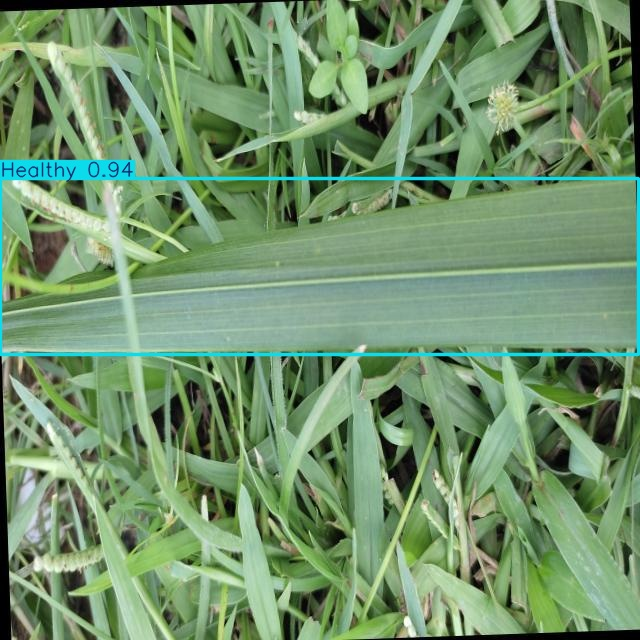Healthy: (0, 179, 638, 354)
